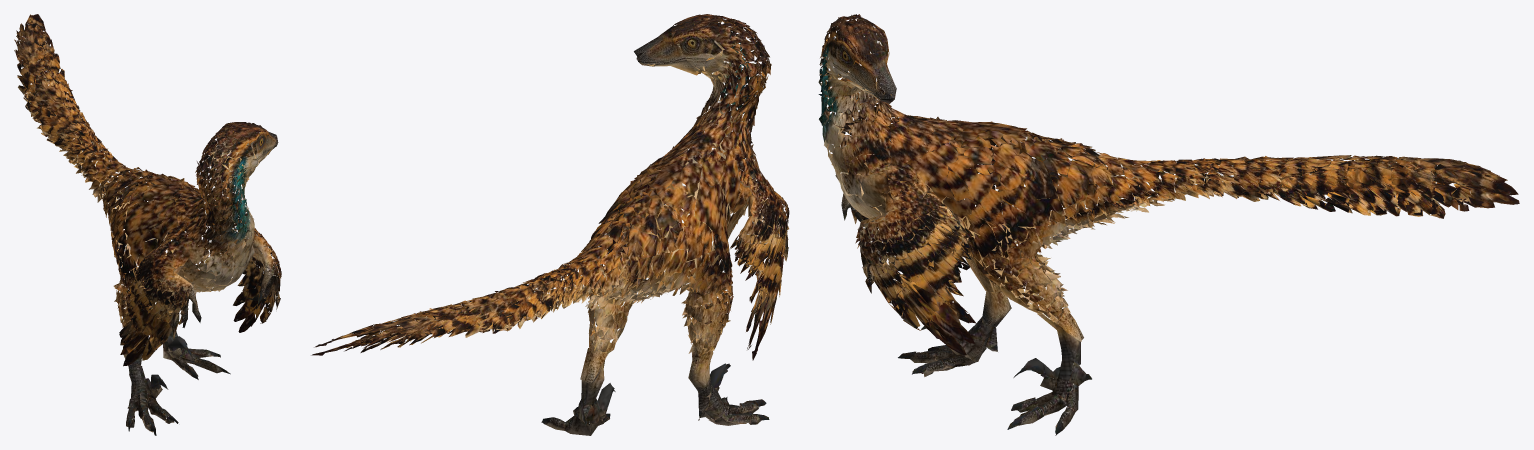
The model's file is velociraptor.glb.
The picture shows the model from 3 angles, left to right: view 1: azimuth 30°, elevation 25°; view 2: azimuth 150°, elevation 25°; view 3: azimuth 270°, elevation 25°; orthographic projection. The views are drawn at different scales.
Parts seen in each view (by area): view 1: velociraptor; view 2: velociraptor; view 3: velociraptor.
Boxes of the visible parts, x1=… form: velociraptor: x1=14, y1=14, x2=281, y2=435; velociraptor: x1=311, y1=14, x2=789, y2=435; velociraptor: x1=818, y1=14, x2=1519, y2=435.
Bounding box in the file's own units: 0.563 × 1.06 × 1.8.
Materials: 1 (1 with a texture image).
